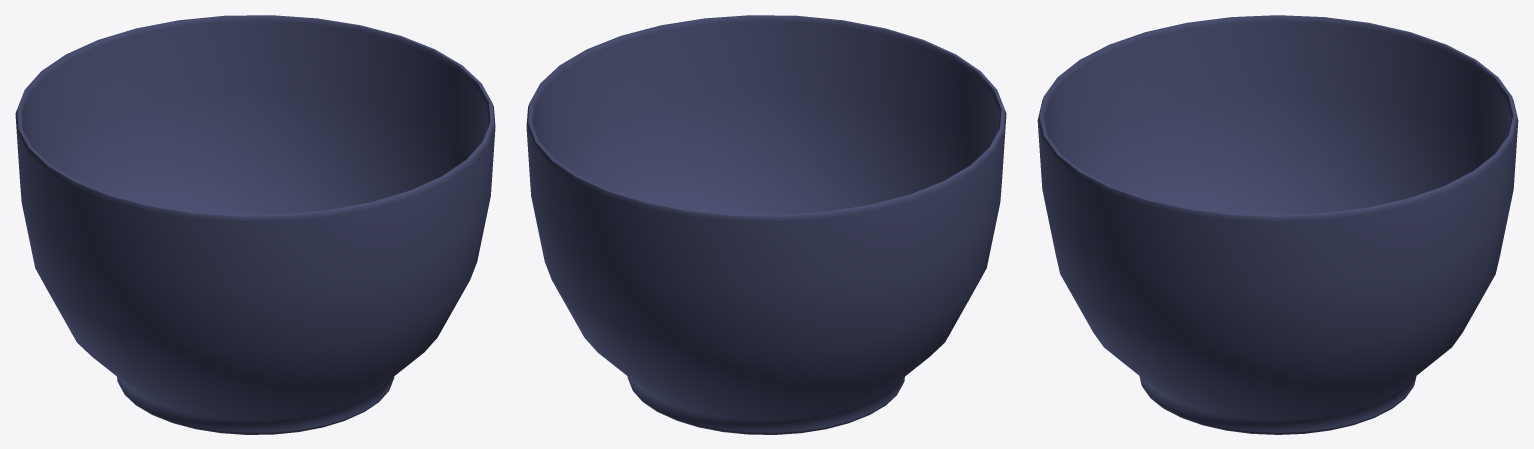
Rendered from Bowl_3.glb.
The picture shows the model from 3 angles, left to right: view 1: azimuth 30°, elevation 25°; view 2: azimuth 150°, elevation 25°; view 3: azimuth 270°, elevation 25°; orthographic projection.
Visible parts, largest first — view 1: Bowl_3; view 2: Bowl_3; view 3: Bowl_3.
Boxes of the visible parts, x1,y1,x2,y2 form: Bowl_3: (15,15,495,434); Bowl_3: (526,15,1006,434); Bowl_3: (1037,15,1518,434).
Size of the model in its own units: 0.1593 by 0.0958 by 0.1593.
